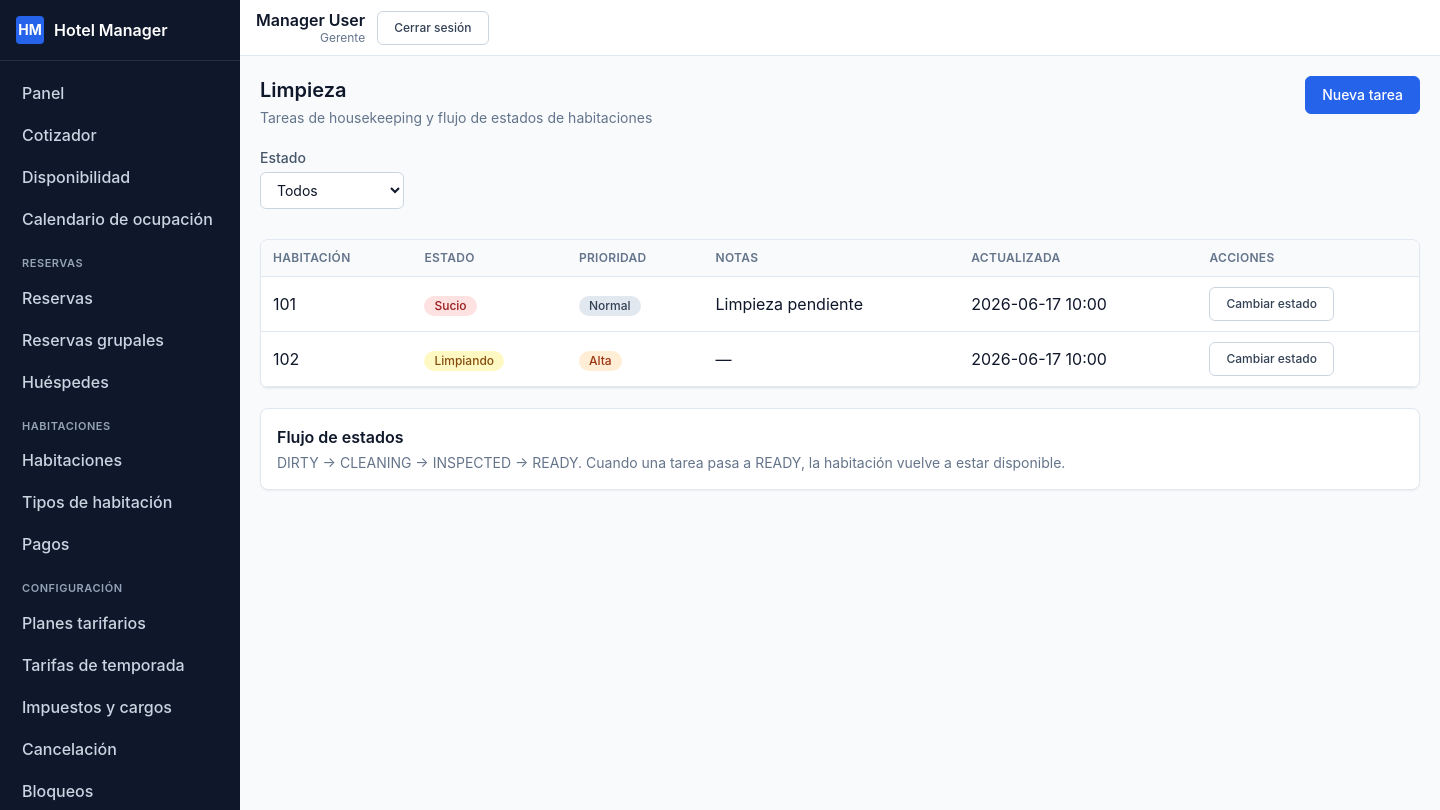
HousekeepingPage › actualiza el estado de una tarea (DIRTY → INSPECTED)
This screenshot has width=1440, height=810.
Check: the text "101" is shown, box [261, 276, 412, 332]
Click the button "Cambiar estado" in the row of "101" at [1272, 304], box [1209, 287, 1334, 321]
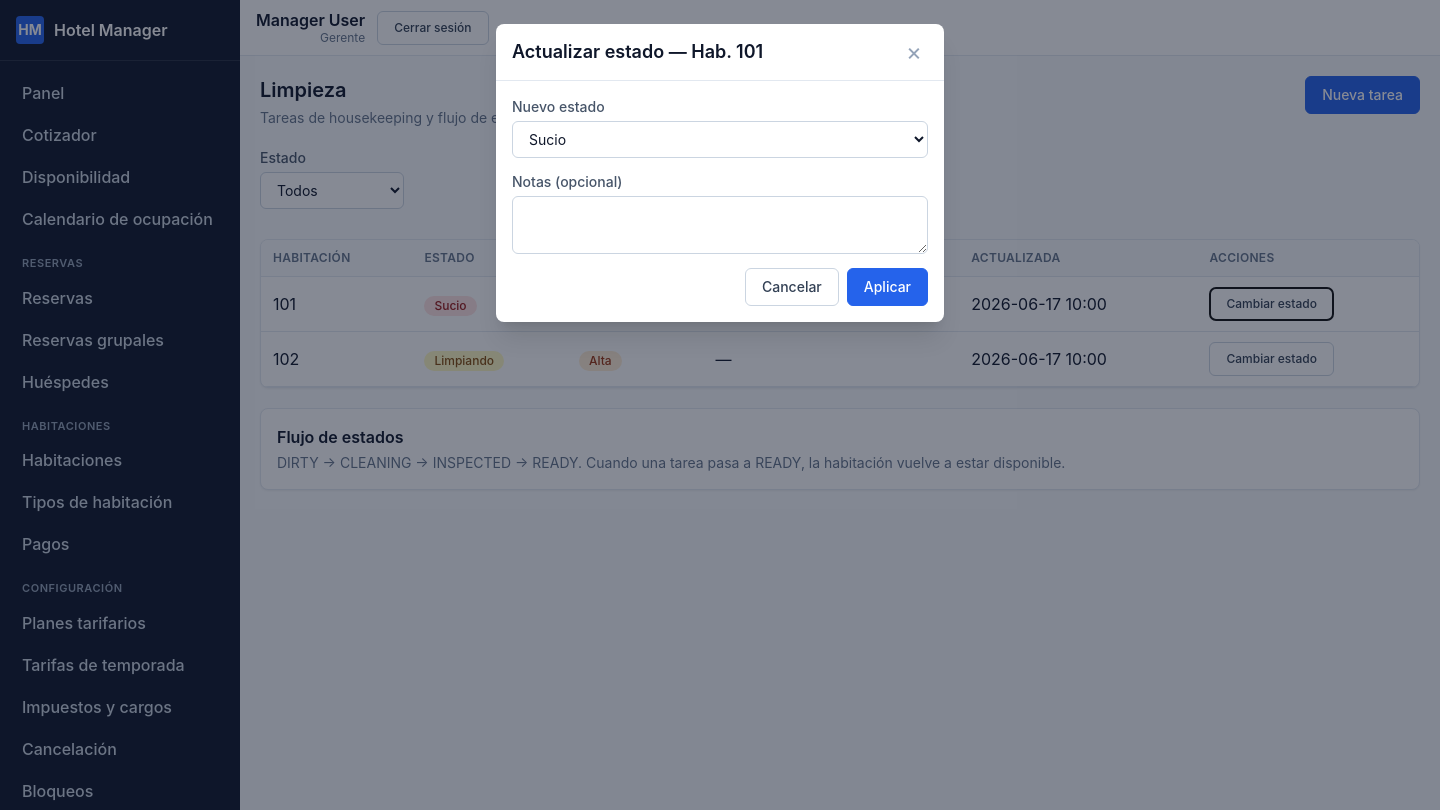
Select "Inspeccionado" in the dropdown labelled "Nuevo estado" at [720, 140], box [512, 121, 928, 158]
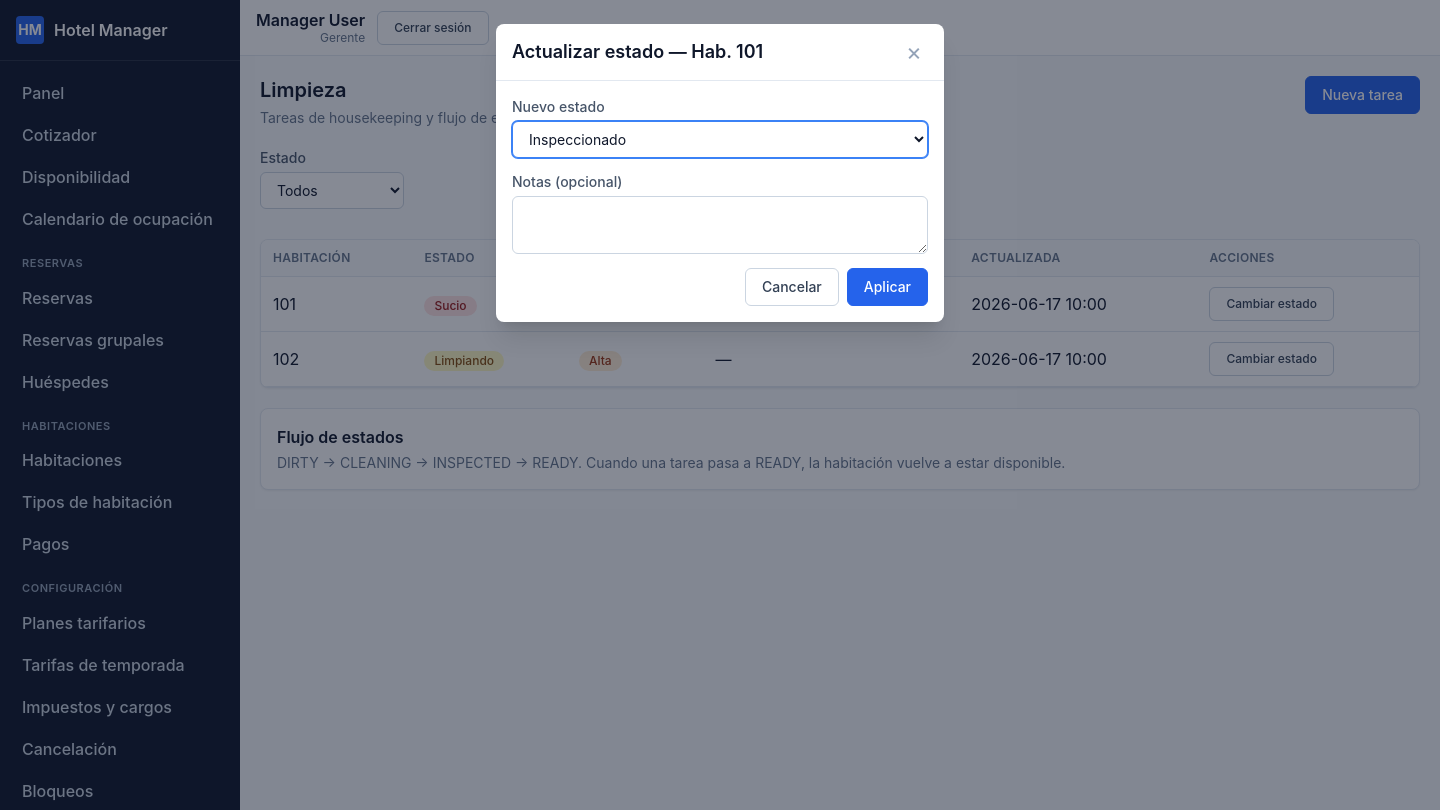
Click the button "Aplicar" at [887, 287], box [847, 268, 928, 306]
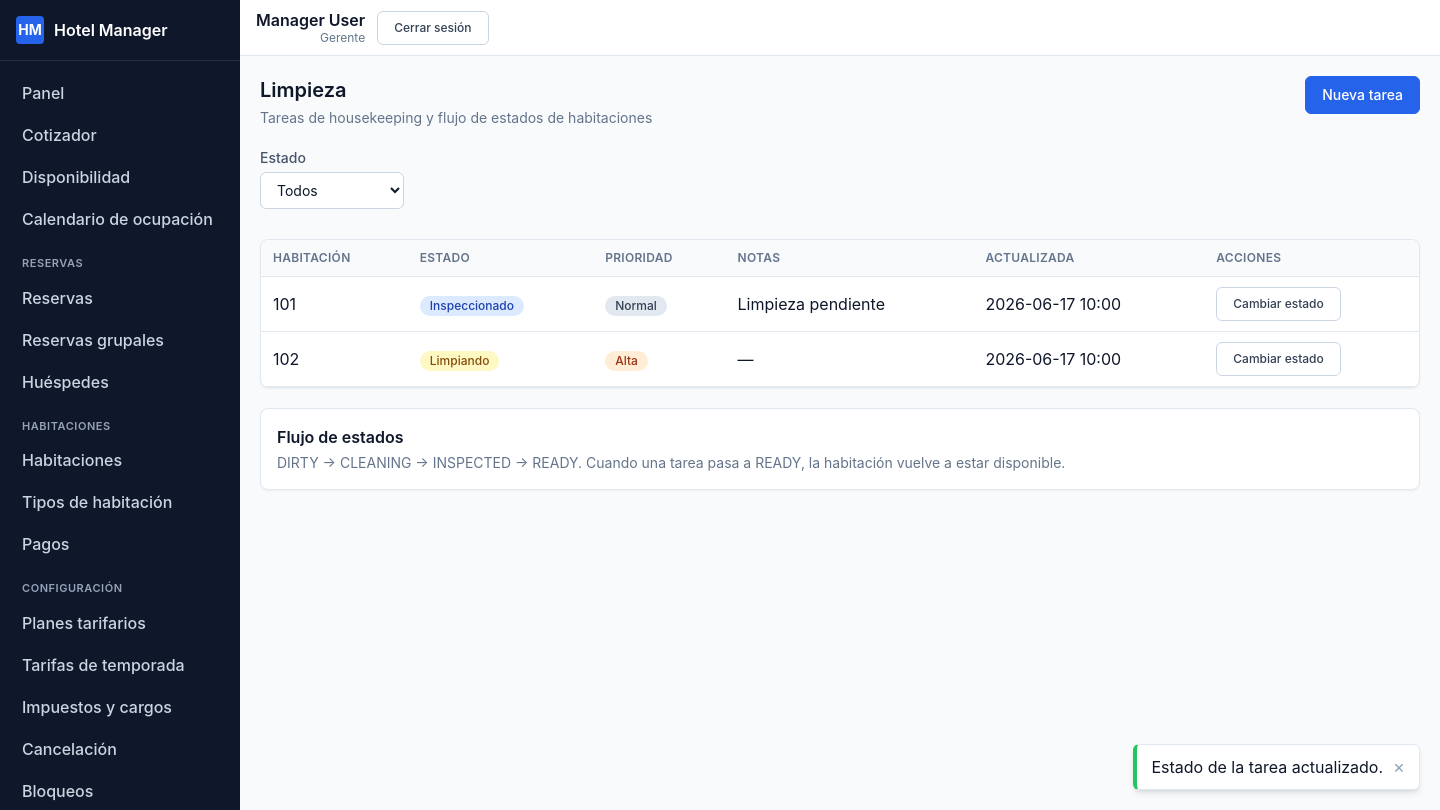
Check: the text "Estado de la tarea actualizado." is shown, box [1151, 755, 1383, 779]
